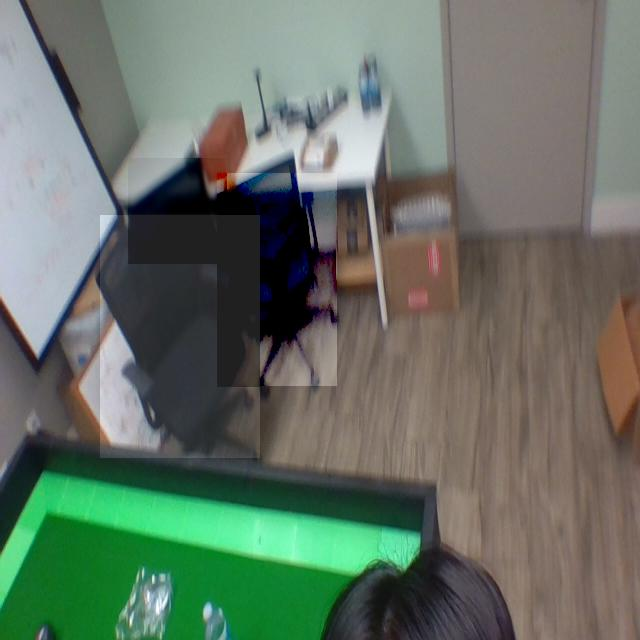black-chair: (100, 215, 261, 459), (217, 173, 338, 387), (128, 158, 227, 264)
